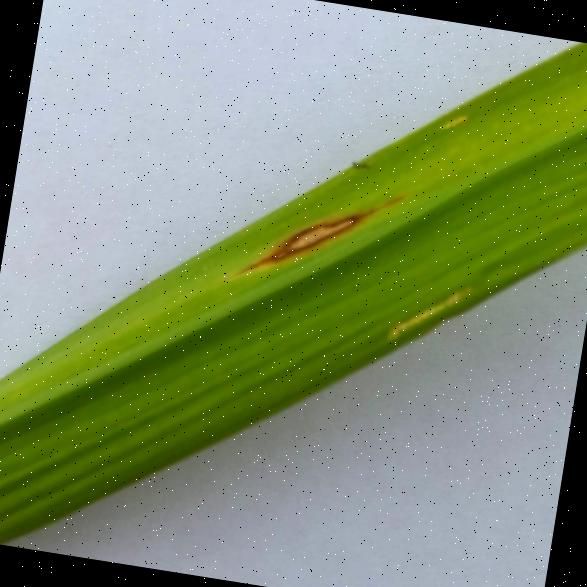Leaf_smut: (238, 165, 409, 298)
